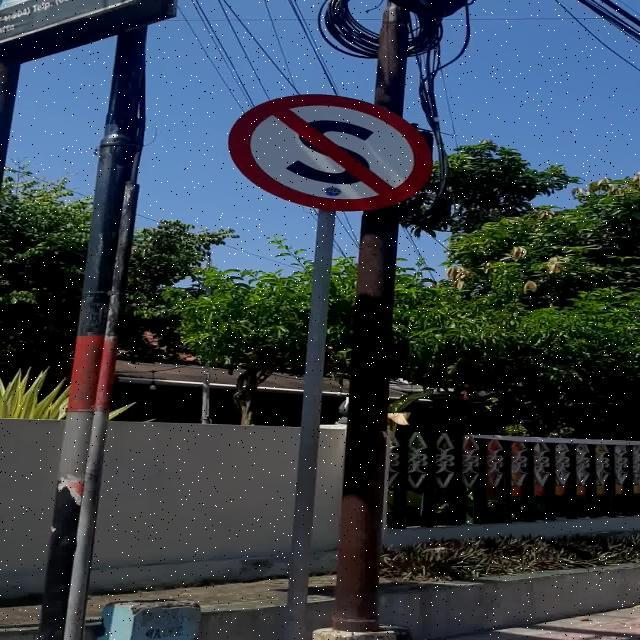Dilarang Berhenti: (228, 94, 432, 211)
